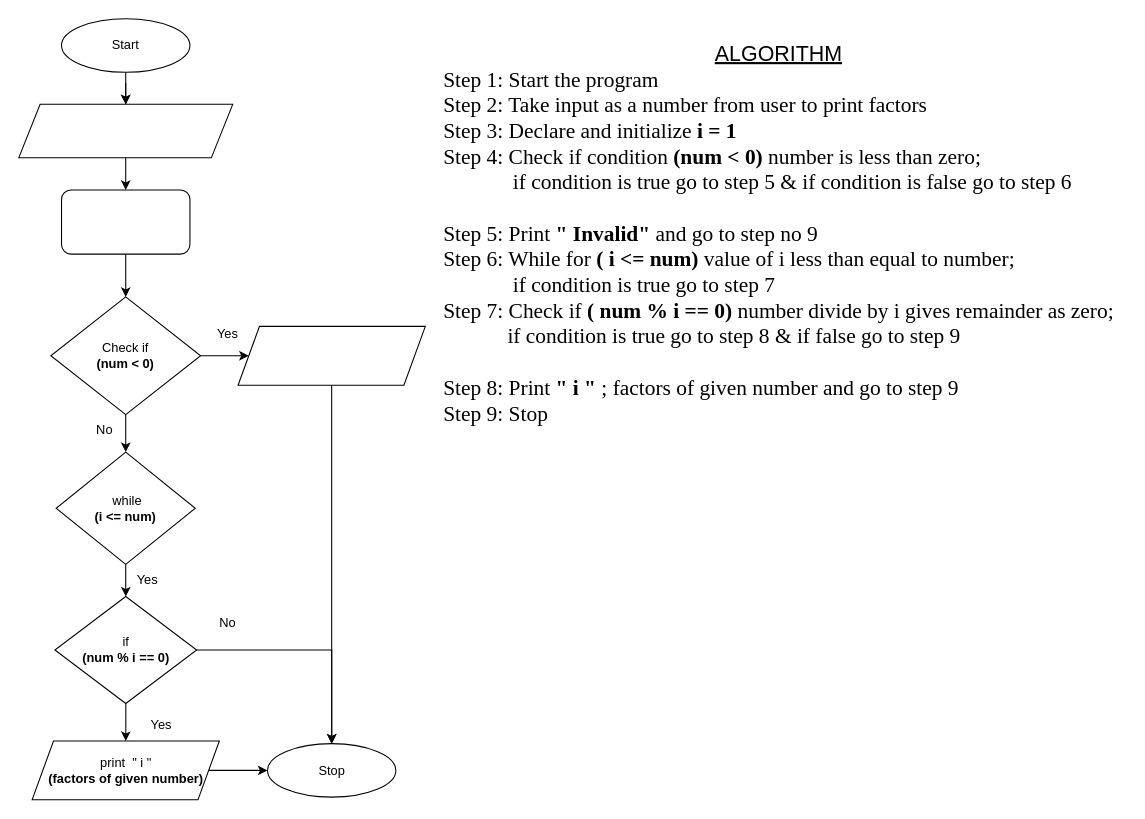
Some shapes in this 1145 by 819 pixel diagram are drawn without their labels. Here are the shapes that lost their labels. From the top down, the centre of each, then its label:
the point at 125,130: Enter the number to print factors
the point at 125,221: Declare and initialize i=1
the point at 331,355: print "Invalid"
